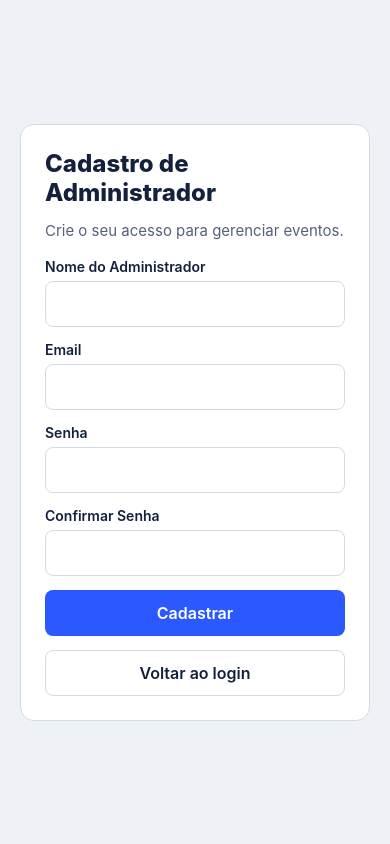
Test: email já cadastrado (409): mostra a mensagem do servidor e fica na tela
Type "Maria Silva" into the field named "Nome do Administrador" at {"x": 195, "y": 304}, box [45,280,345,326]
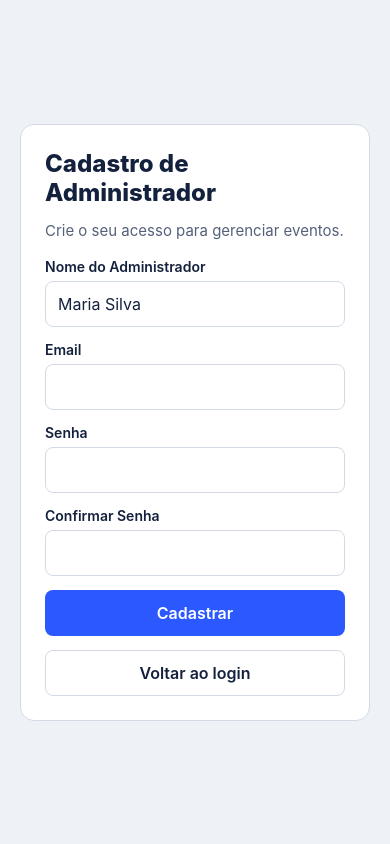
Type "maria@email.com" into the field named "Email" at {"x": 195, "y": 386}, box [45,364,345,410]
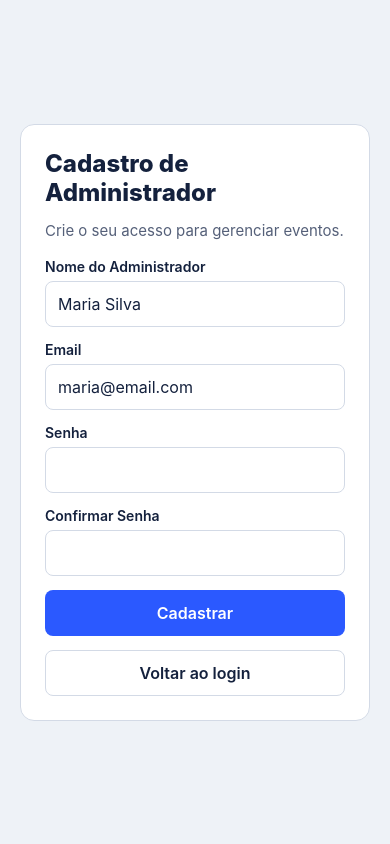
Type "senha123" into the password field named "Senha" at {"x": 195, "y": 470}, box [45,446,345,492]
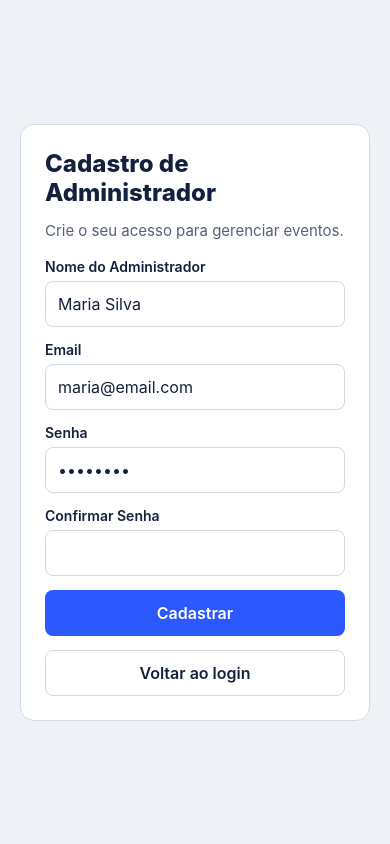
Type "senha123" into the password field named "Confirmar Senha" at {"x": 195, "y": 552}, box [45,530,345,576]
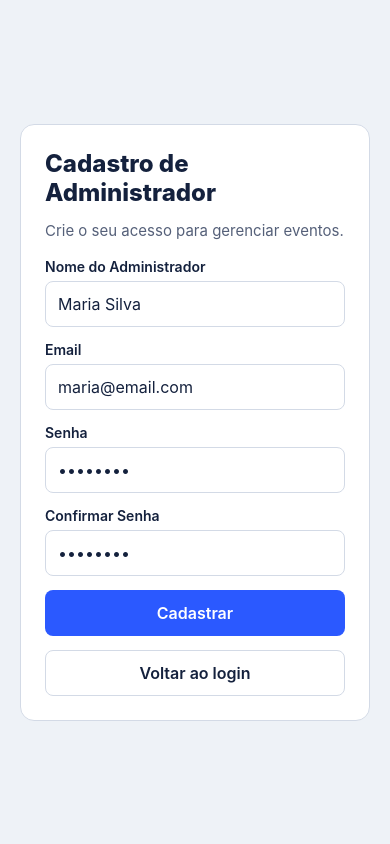
Click the button "Cadastrar" at {"x": 195, "y": 612}, box [45,590,345,636]
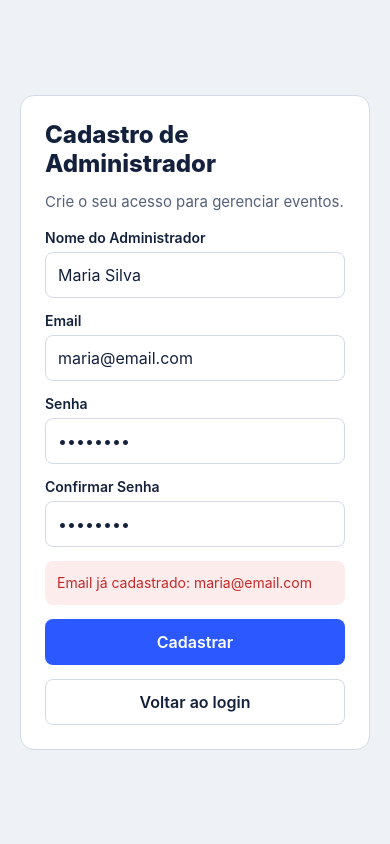
Expected: the text "Email já cadastrado: maria@email.com" is shown, [45,560,345,604]
